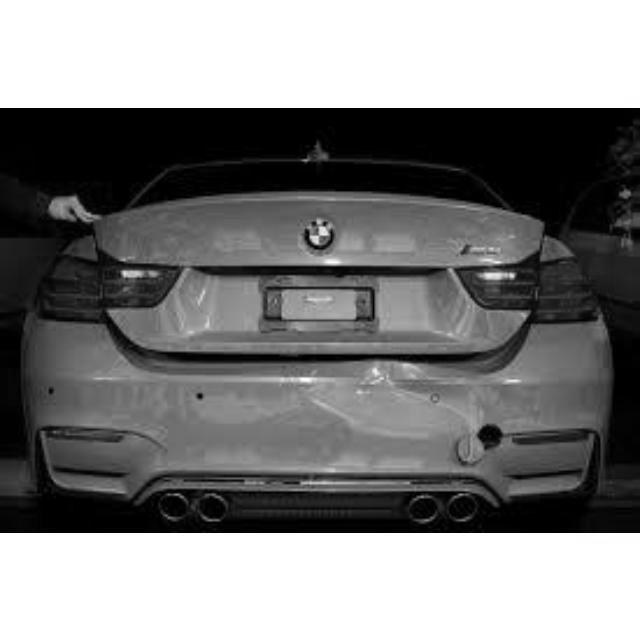rear-bumper-dent: (98, 361, 528, 493)
